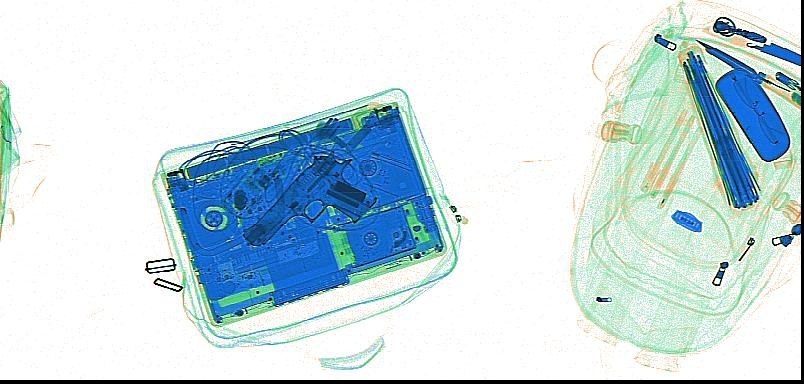knife: (694, 38, 799, 109), (703, 26, 799, 65)
